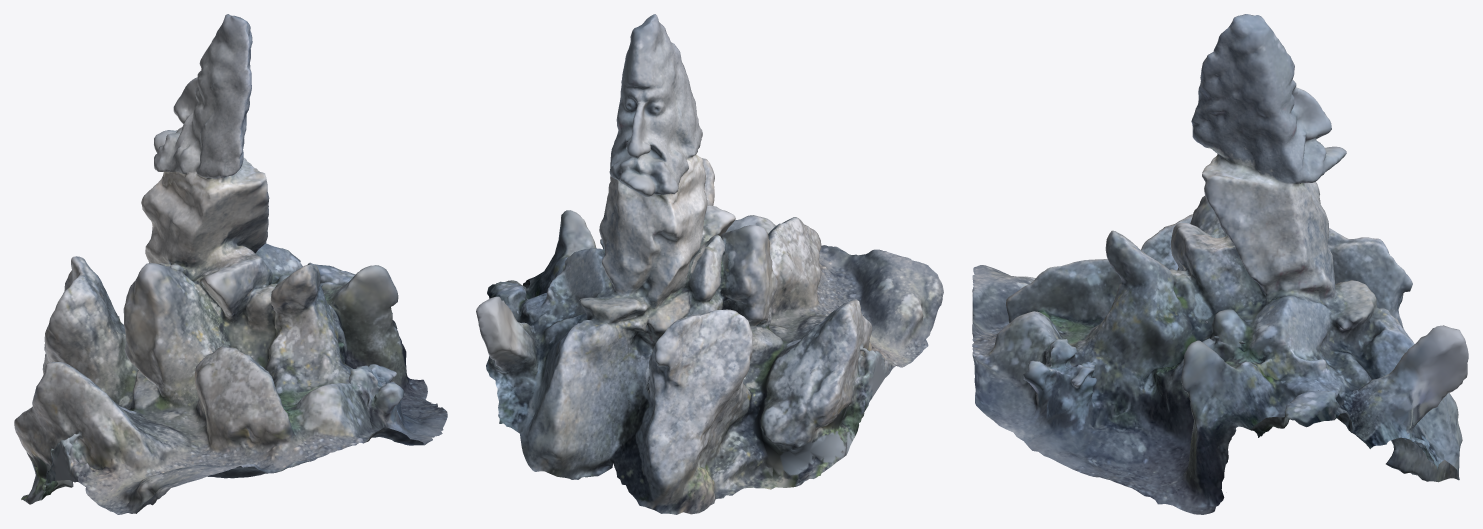
Rendered from rochers_sculptes_de_rotheneuf.glb.
3 renders of one model, left to right at view 1: azimuth 30°, elevation 25°; view 2: azimuth 150°, elevation 25°; view 3: azimuth 270°, elevation 25°, orthographic. The views are drawn at different scales.
Visible parts, largest first — view 1: Object_2; view 2: Object_2; view 3: Object_2.
Part boxes in pixels (<box>): Object_2: <box>14,14,447,514</box>; Object_2: <box>476,14,943,514</box>; Object_2: <box>972,14,1468,514</box>.
Size of the model in its own units: 17.21 by 19.84 by 18.51.
1 material, 1 textured.
